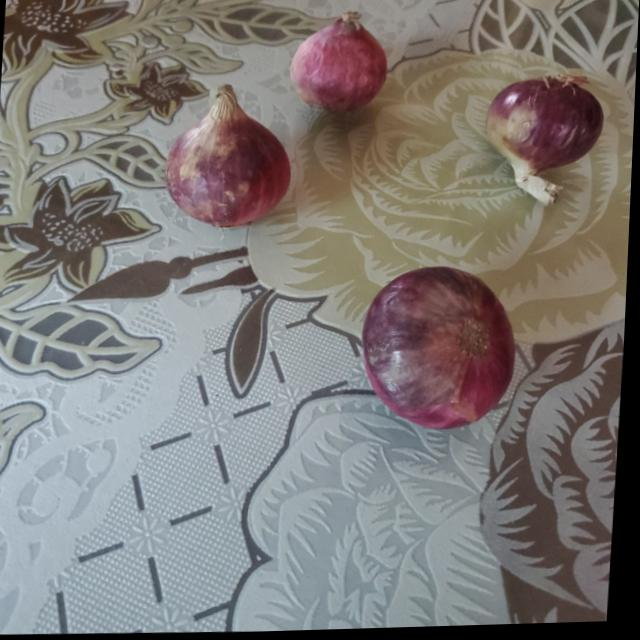onion: (356, 271, 518, 441), (162, 83, 295, 227), (486, 78, 607, 176), (292, 14, 390, 115)
